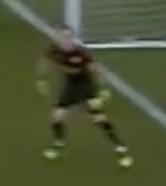goalkeeper: (21, 13, 151, 175)
